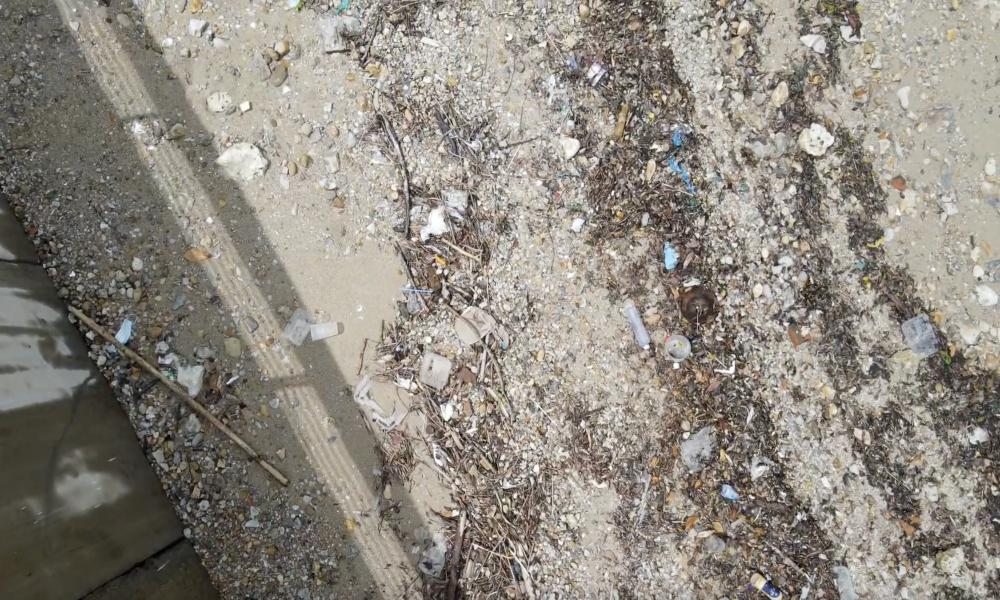plastic bottle: (623, 294, 649, 353), (744, 567, 783, 599)
